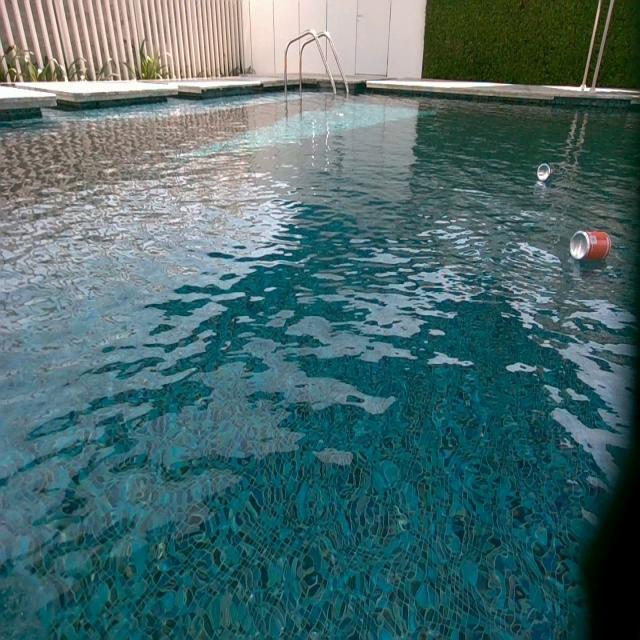Cans: (572, 230, 612, 264), (535, 163, 550, 183)
